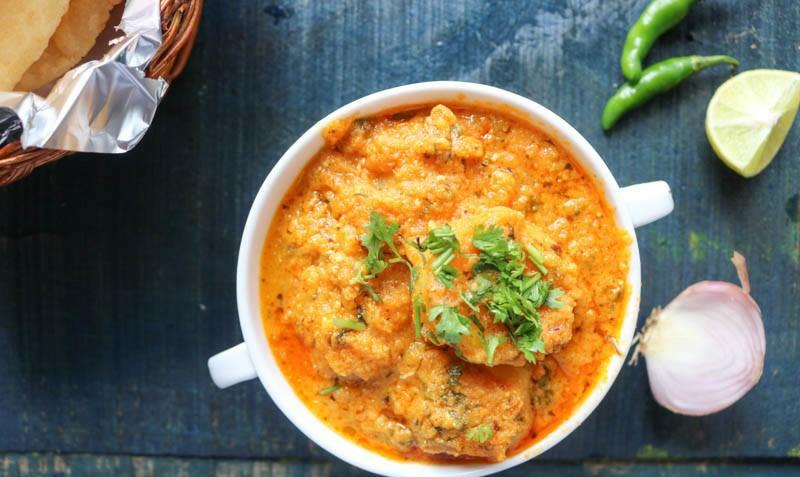DumAloo: (258, 104, 628, 468)
